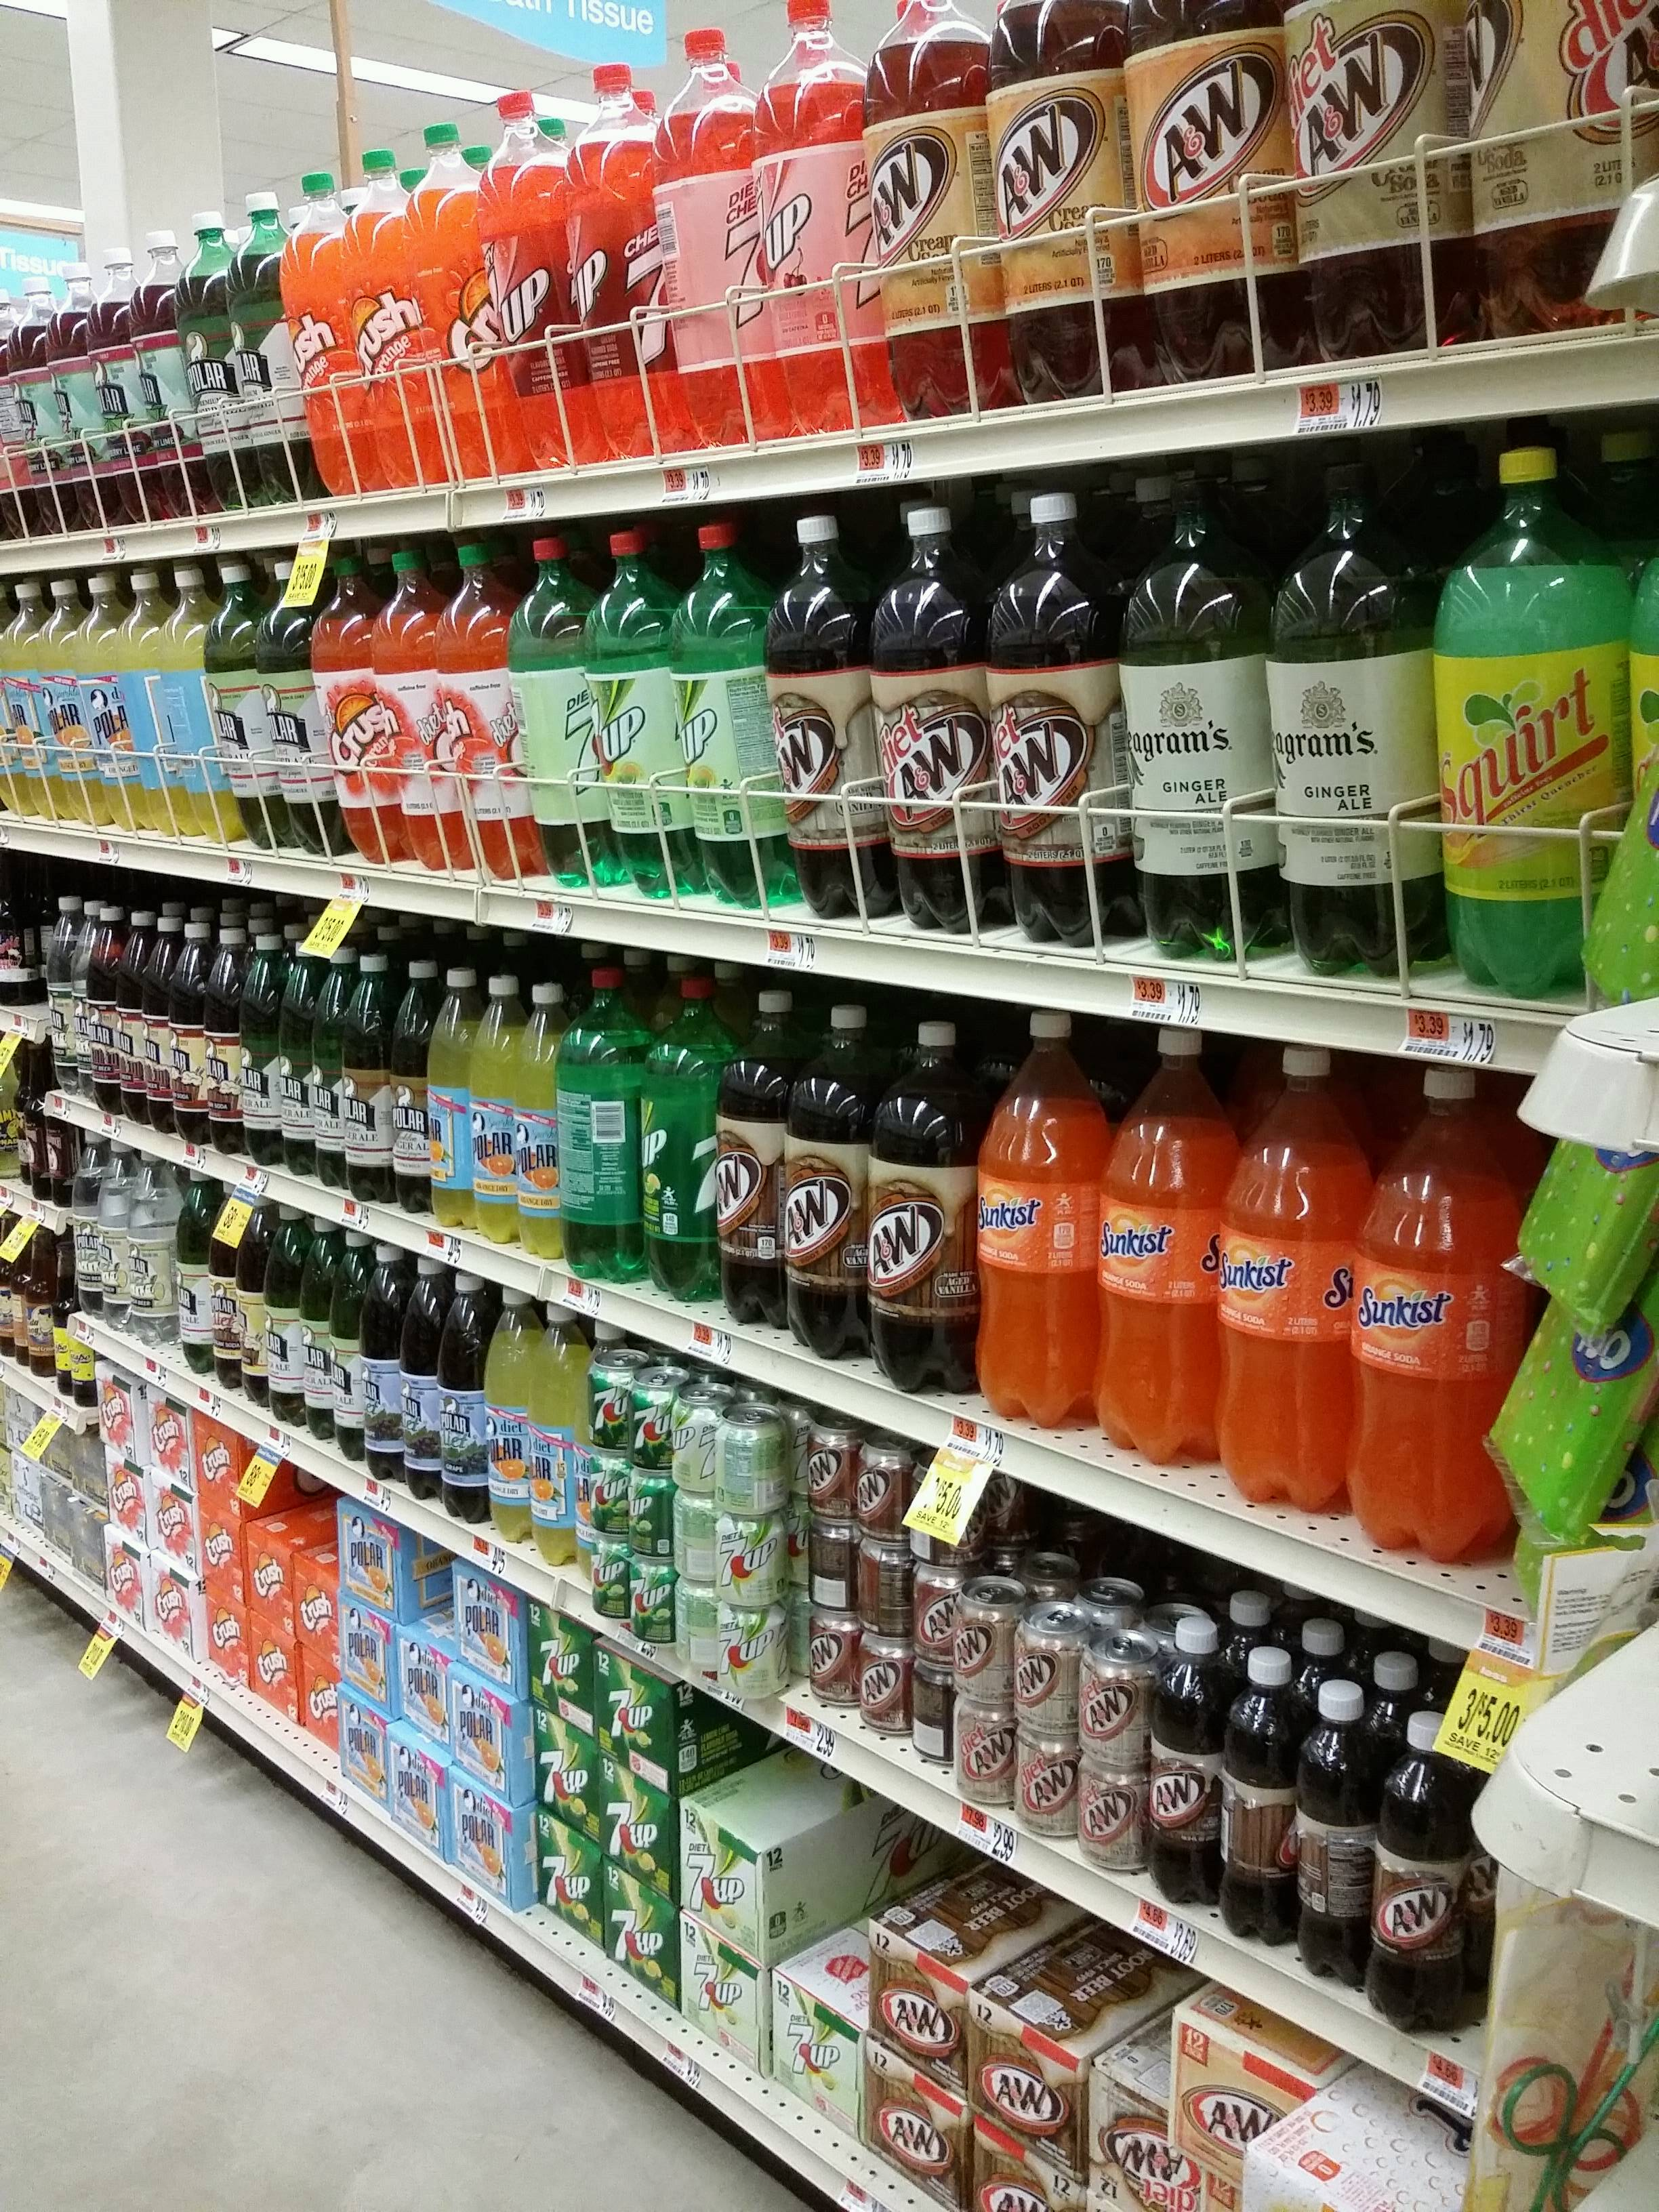Misplacement: (666, 1672, 885, 1855)
